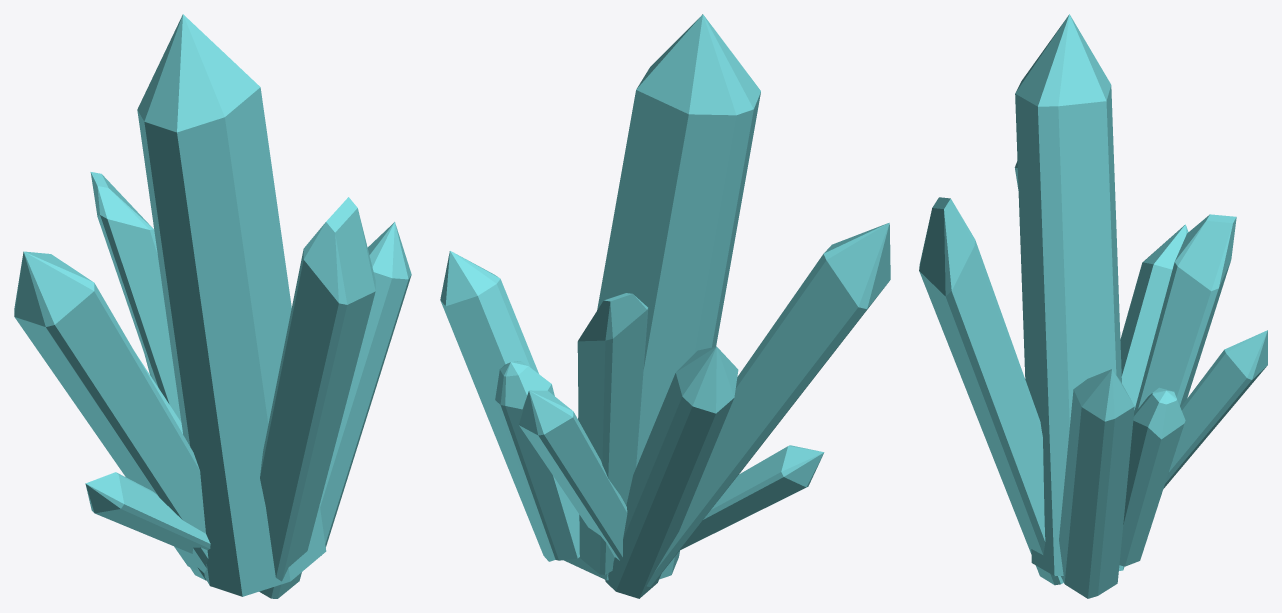
File: crystals_3.fbx
The picture shows the model from 3 angles, left to right: view 1: azimuth 30°, elevation 25°; view 2: azimuth 150°, elevation 25°; view 3: azimuth 270°, elevation 25°; orthographic projection. The views are drawn at different scales.
Parts seen in each view (by area): view 1: polySurface3; view 2: polySurface3; view 3: polySurface3.
Boxes of the visible parts, x1,y1,x2,y2 form: polySurface3: [14, 14, 411, 598]; polySurface3: [440, 14, 890, 598]; polySurface3: [919, 14, 1267, 598].
Size of the model in its own units: 11.48 by 15.31 by 9.17.
